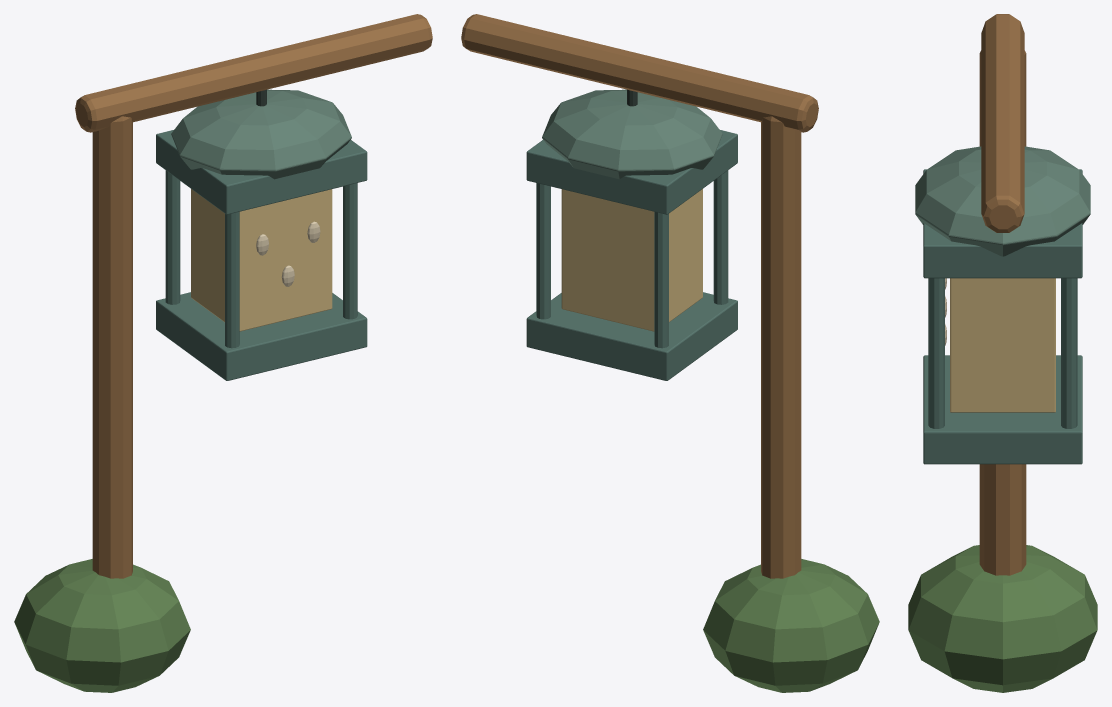
File: firefly-lantern.glb
3 renders of one model, left to right at view 1: azimuth 30°, elevation 25°; view 2: azimuth 150°, elevation 25°; view 3: azimuth 270°, elevation 25°, orthographic. The views are drawn at different scales.
Parts seen in each view (by area): view 1: firefly-lantern_Discovery_Mesh, discovery_Motion.009_Mesh; view 2: firefly-lantern_Discovery_Mesh, discovery_Motion.009_Mesh; view 3: discovery_Motion.009_Mesh, firefly-lantern_Discovery_Mesh.
Boxes of the visible parts, <box> form: firefly-lantern_Discovery_Mesh: <box>14,14,432,692</box>; discovery_Motion.009_Mesh: <box>156,89,367,380</box>; firefly-lantern_Discovery_Mesh: <box>461,14,879,692</box>; discovery_Motion.009_Mesh: <box>526,89,737,380</box>; discovery_Motion.009_Mesh: <box>915,146,1090,464</box>; firefly-lantern_Discovery_Mesh: <box>908,14,1097,692</box>.
Bounding box in the file's own units: 1.56 × 2.19 × 0.5706.
